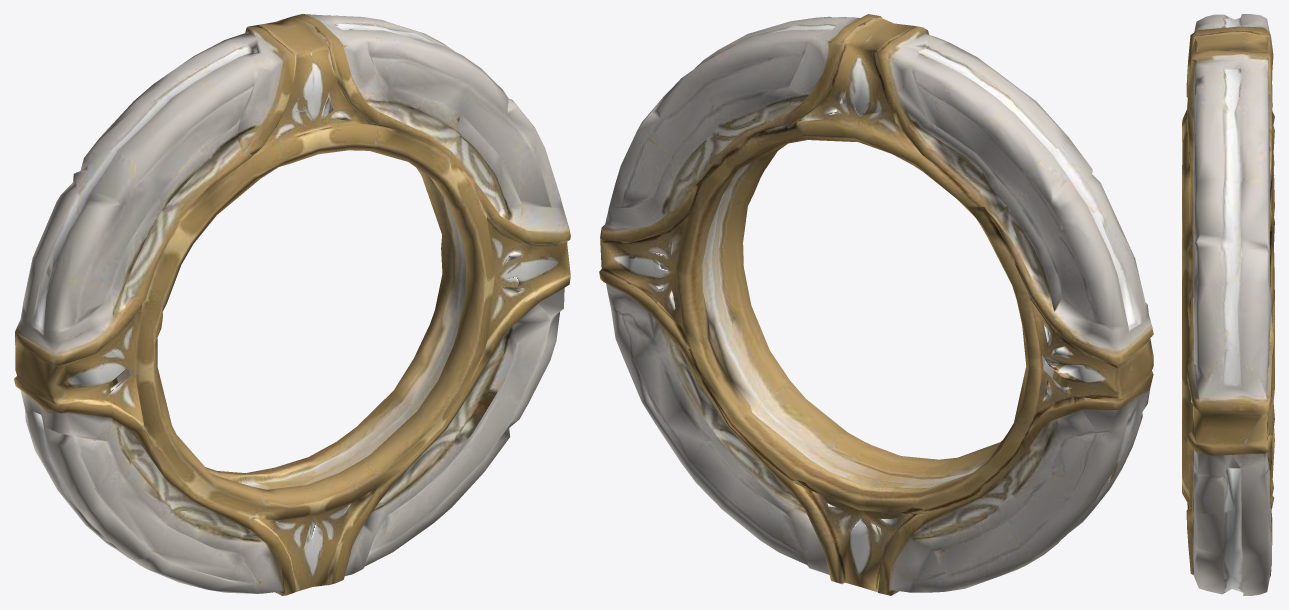
File: veilheart.glb
3 views of the same model, side by side, from view 1: azimuth 30°, elevation 25°; view 2: azimuth 150°, elevation 25°; view 3: azimuth 270°, elevation 25° (orthographic). The views are drawn at different scales.
Bounding box in the file's own units: 0.9517 × 0.9497 × 0.1509.
1 material, 1 textured.
